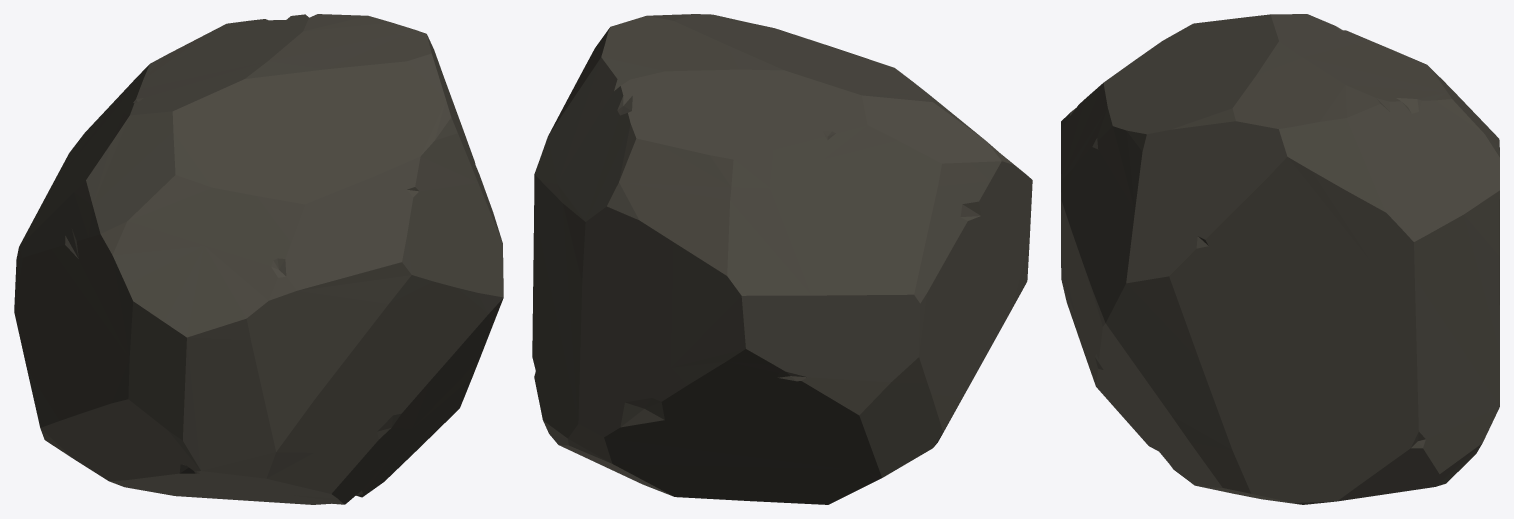
Rendered from synty-rock-boulder-01.gltf.
3 views of the same model, side by side, from view 1: azimuth 30°, elevation 25°; view 2: azimuth 150°, elevation 25°; view 3: azimuth 270°, elevation 25° (orthographic). The views are drawn at different scales.
Parts seen in each view (by area): view 1: SM_Rock_Boulder_01; view 2: SM_Rock_Boulder_01; view 3: SM_Rock_Boulder_01.
Boxes of the visible parts, x1,y1,x2,y2 form: SM_Rock_Boulder_01: [14, 14, 503, 504]; SM_Rock_Boulder_01: [532, 14, 1032, 504]; SM_Rock_Boulder_01: [1061, 14, 1499, 504].
Bounding box in the file's own units: 2.67 × 2.67 × 2.67.
Materials: 1 (1 with a texture image).
